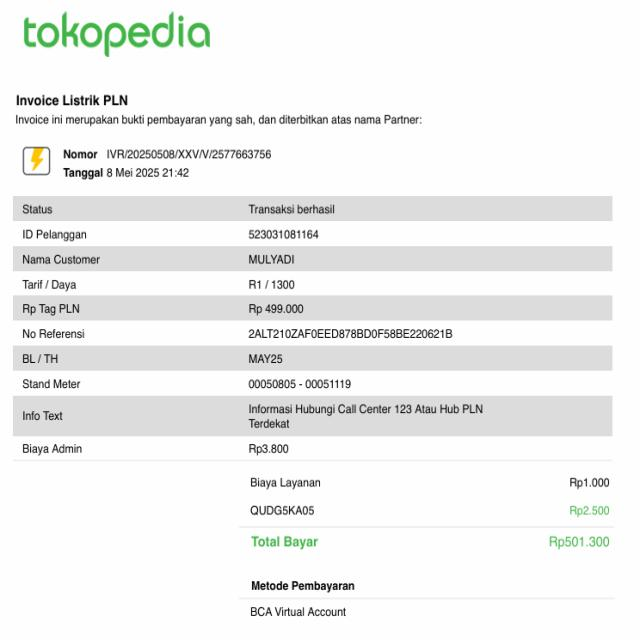date: (104, 164, 192, 183)
store: (16, 10, 220, 59), (14, 91, 131, 112)
total: (246, 532, 613, 560)
